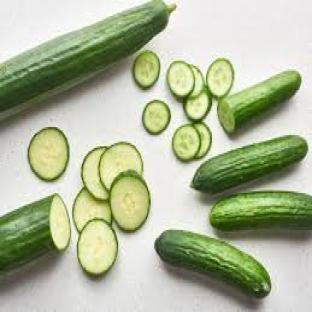Cucumber: (156, 230, 271, 297), (192, 136, 308, 192), (0, 195, 71, 271), (219, 71, 301, 133), (210, 192, 311, 231), (110, 171, 150, 231), (78, 219, 118, 275), (28, 128, 69, 180), (99, 142, 143, 189), (73, 189, 112, 231), (81, 147, 108, 199), (206, 58, 233, 98), (173, 124, 201, 162), (167, 62, 195, 98), (143, 100, 171, 135), (133, 52, 160, 88), (184, 89, 212, 122), (193, 123, 212, 159), (190, 65, 204, 96)
